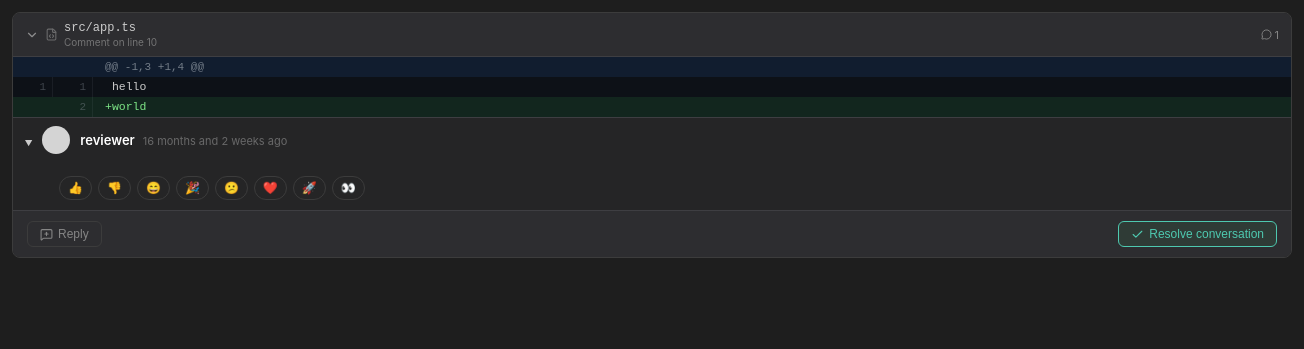
Test: ReviewThreadCard › enables send button when reply text is non-empty
Click the button "Reply".
click(64, 234)  # box [27, 221, 102, 247]
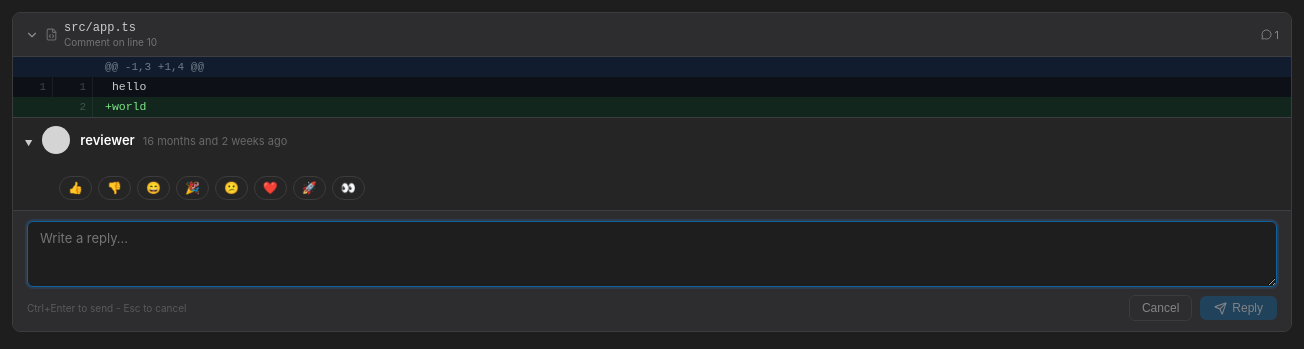
Type "My reply" into the text box with placeholder "Write a reply…".
click(652, 254); type("My reply")  # box [27, 221, 1277, 287]
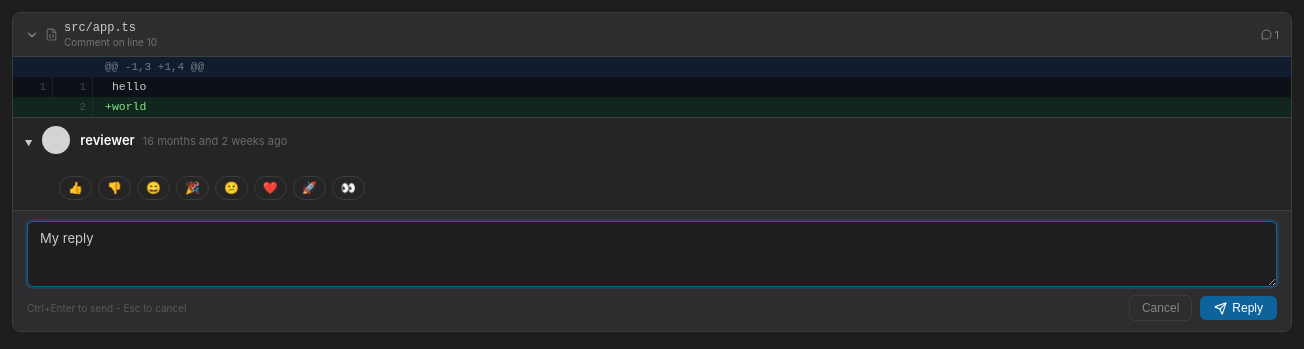
Check: the button "Reply" is enabled, box [1200, 296, 1277, 320]
